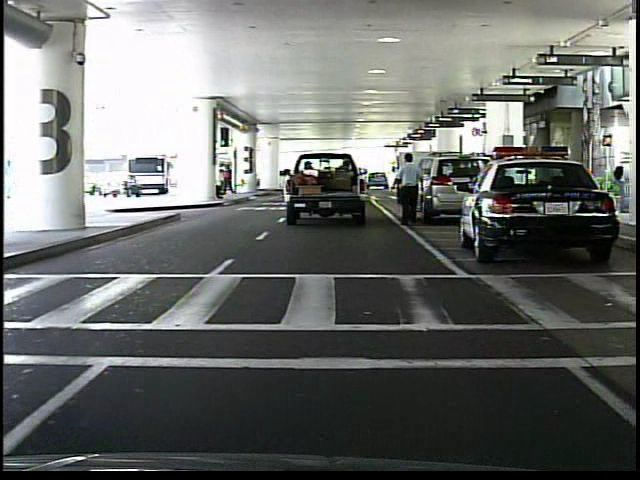person: (392, 151, 431, 229), (222, 160, 237, 199)
